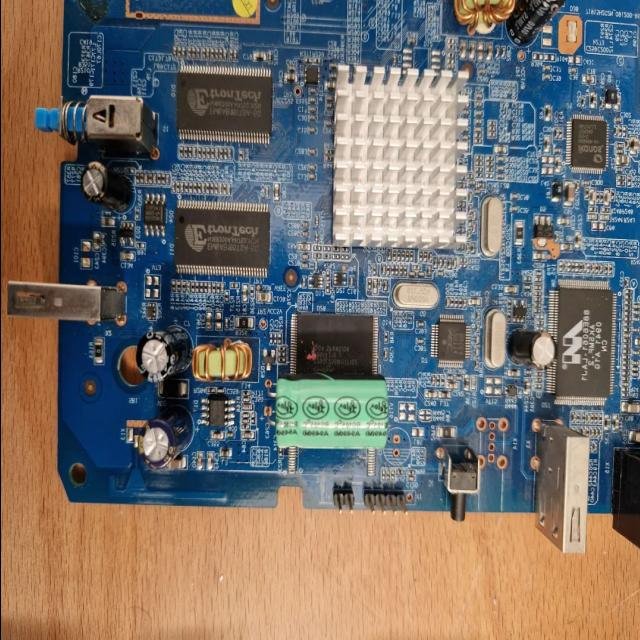A: (191, 340, 250, 382), (454, 0, 514, 31)
C: (137, 406, 191, 470), (136, 327, 188, 382), (80, 162, 130, 212), (515, 0, 567, 48), (508, 330, 554, 370)
